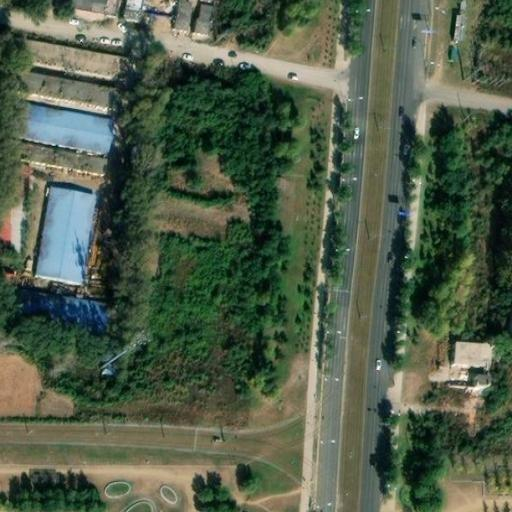building: (36, 185, 95, 283), (0, 284, 112, 334), (5, 36, 132, 80), (1, 69, 125, 110), (0, 140, 109, 174), (453, 341, 493, 388), (172, 0, 214, 35), (106, 0, 144, 22), (450, 3, 466, 40), (70, 0, 108, 15), (36, 0, 71, 7)
